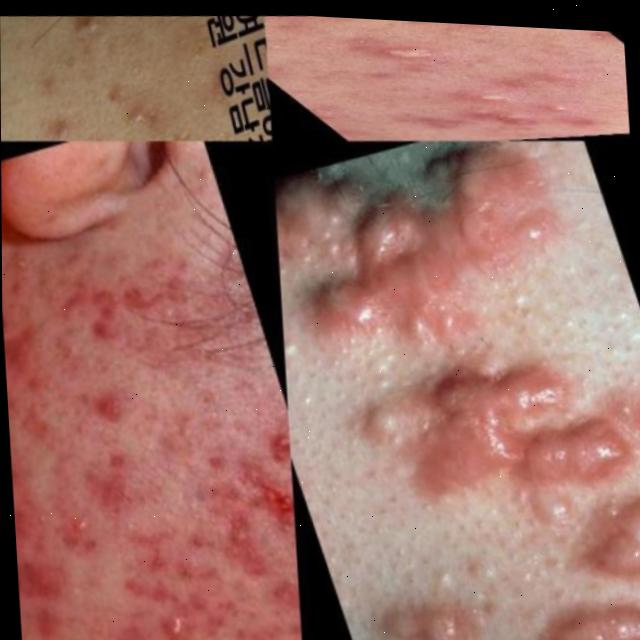Acne: (316, 160, 640, 640), (2, 266, 278, 637), (326, 17, 580, 136), (31, 9, 174, 131)
